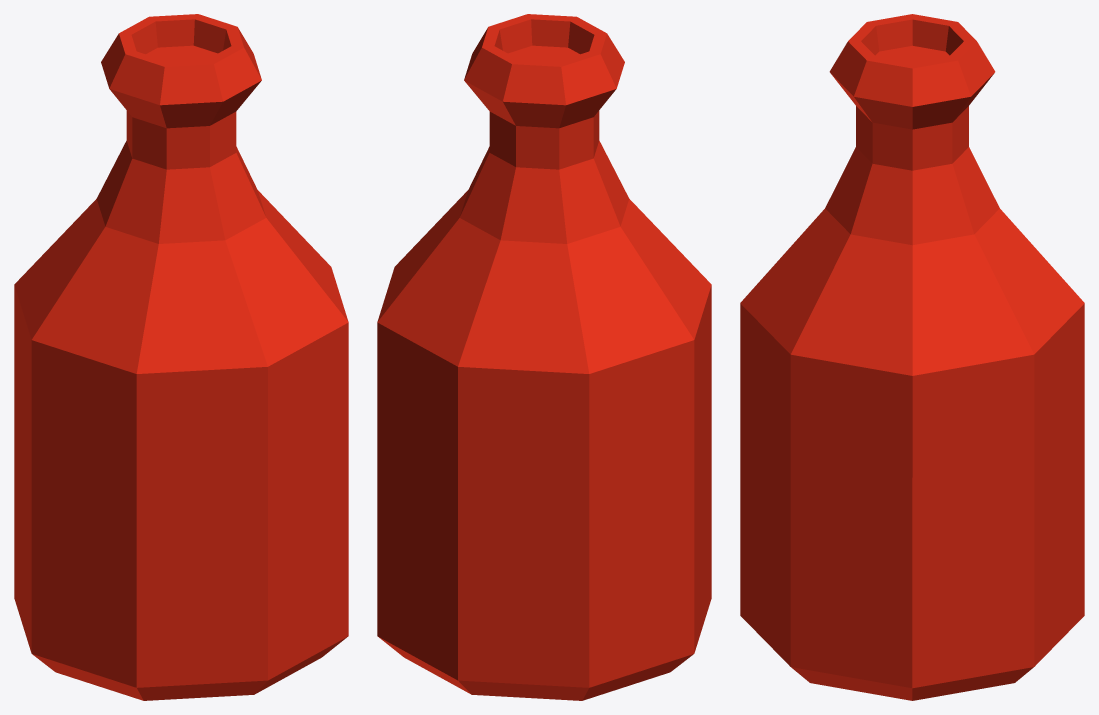
File: MenuShop_Bottle_2.fbx
The picture shows the model from 3 angles, left to right: view 1: azimuth 30°, elevation 25°; view 2: azimuth 150°, elevation 25°; view 3: azimuth 270°, elevation 25°; orthographic projection.
Parts seen in each view (by area): view 1: Cylinder.002; view 2: Cylinder.002; view 3: Cylinder.002.
Boxes of the visible parts, left/top/right/bottom form: Cylinder.002: left=14, top=14, right=348, bottom=700; Cylinder.002: left=377, top=14, right=711, bottom=700; Cylinder.002: left=740, top=14, right=1084, bottom=700.
Bounding box in the file's own units: 200 × 383 × 200.
